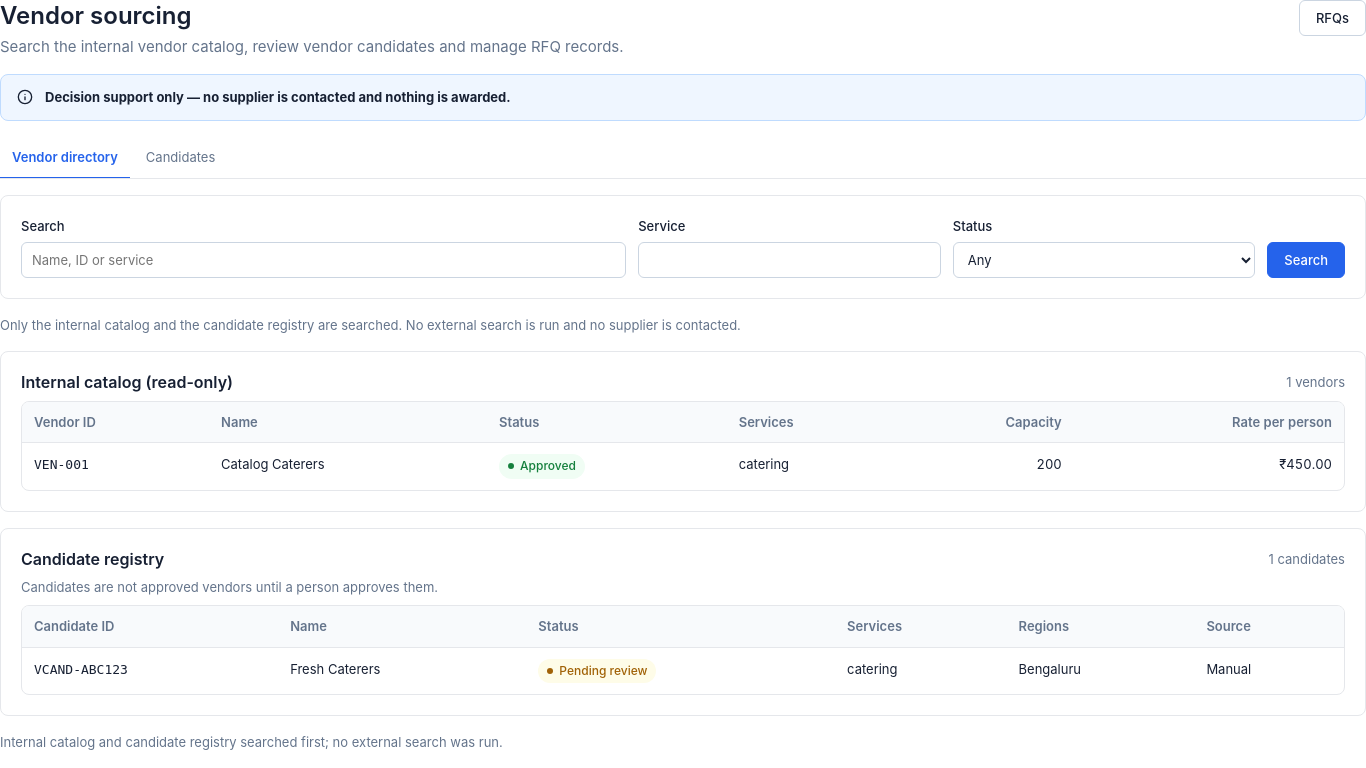
Scenario: VendorSourcingPage — candidates › shows candidate detail and approves with a required reason
This screenshot has width=1366, height=768.
Click the tab "Candidates" at (181, 158), box [134,137,227,179]
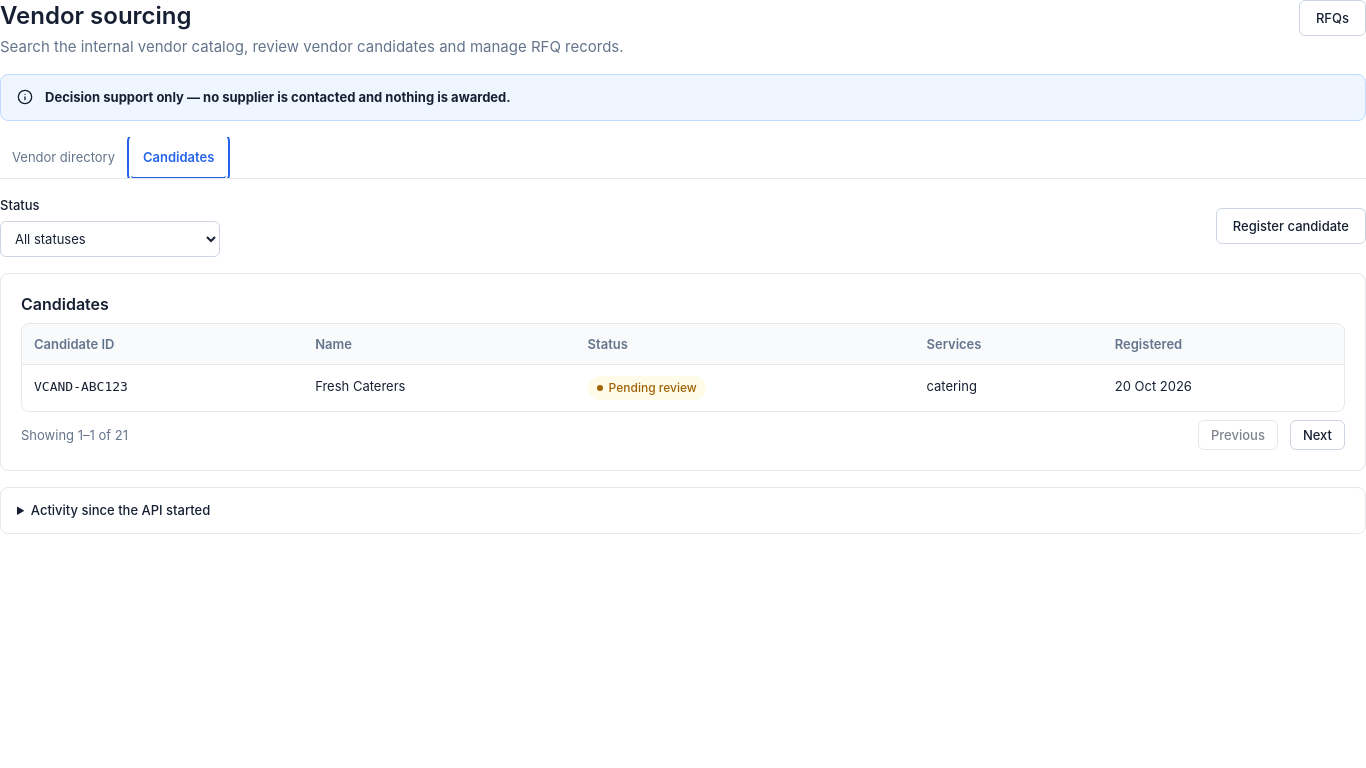
Click the text "Fresh Caterers" at (360, 386), box [303,365,576,411]
(page scrolled)
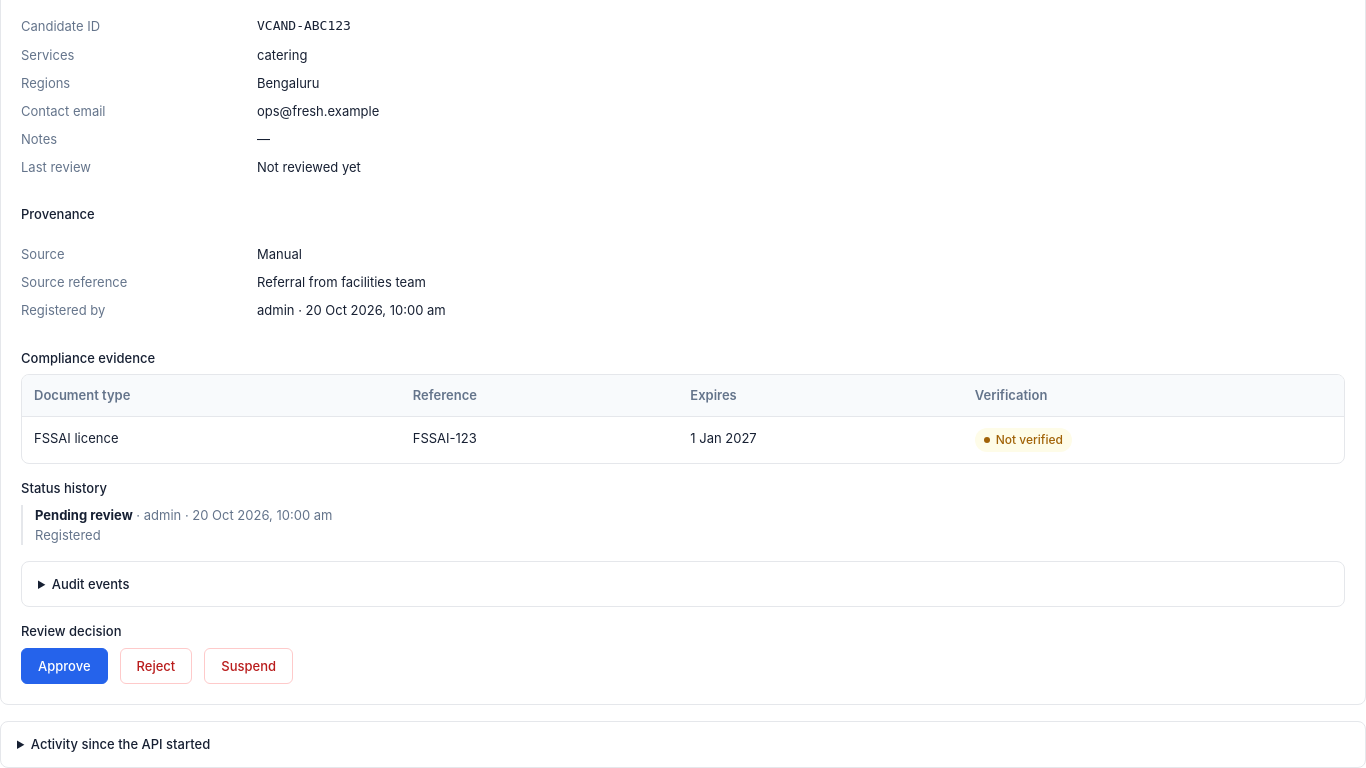
expect the heading "Provenance" is shown: met, box [21,206,95,222]
expect the text "Referral from facilities team" is shown: met, box [257,274,426,290]
expect the text "FSSAI licence" is shown: met, box [22,417,401,463]
Click the button "Approve" at (64, 666), box [21,648,108,684]
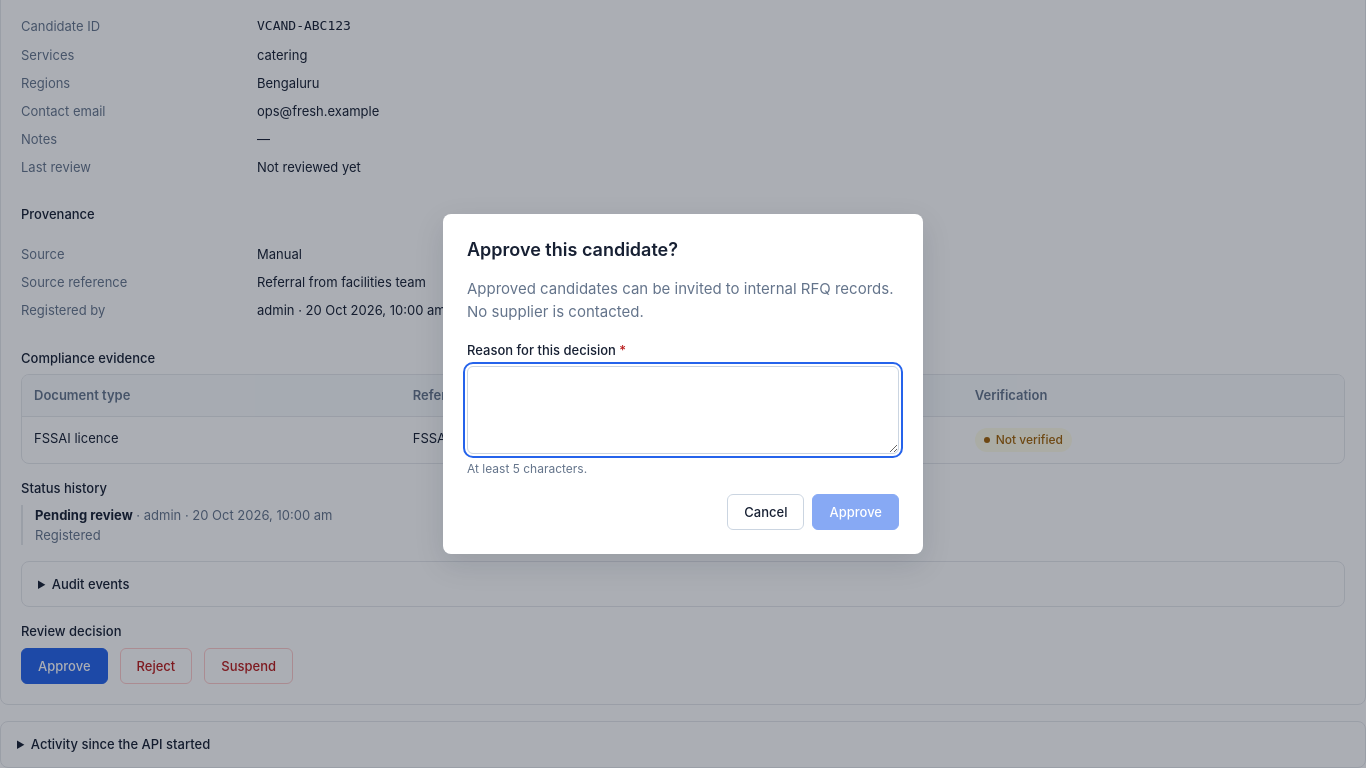
Type "ok" into the text box labelled "Reason for this decision" at (683, 410), box [467,366,899,454]
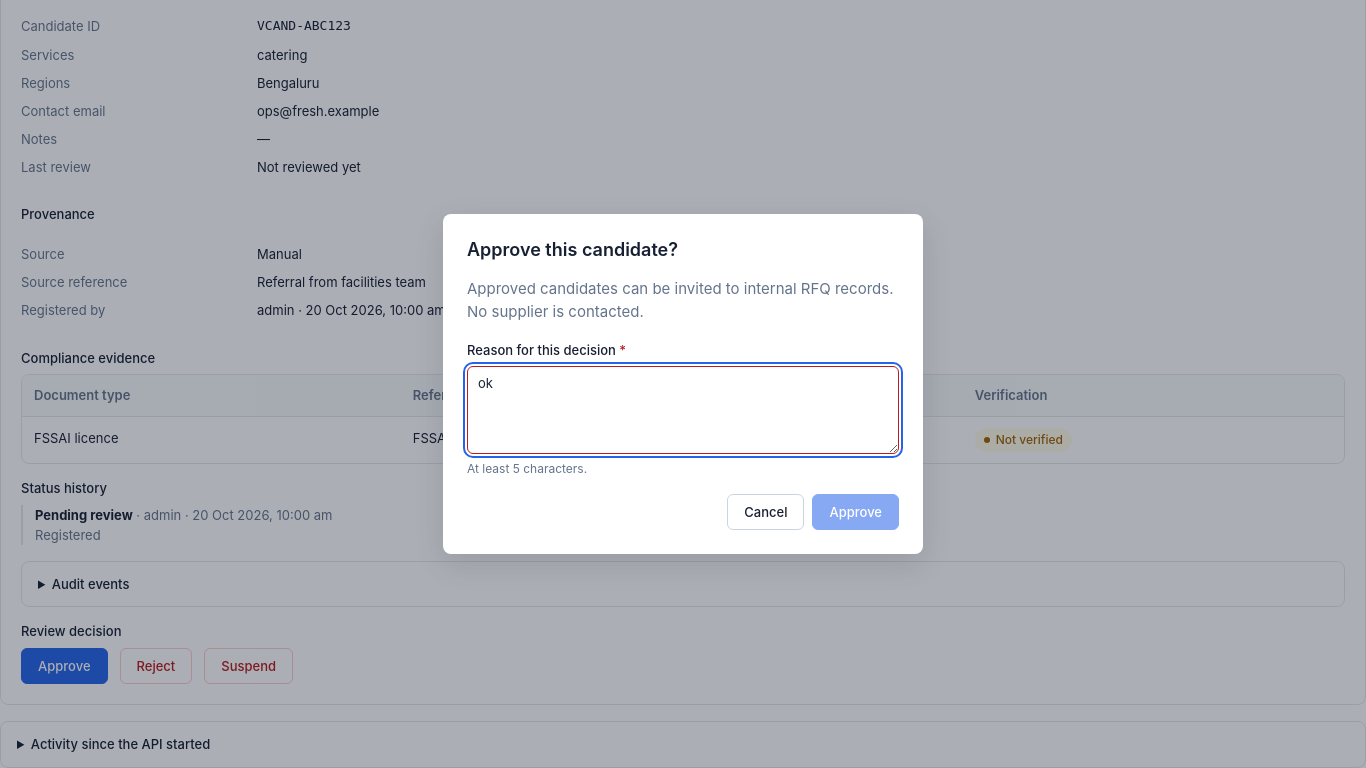
Type " checked" into the text box labelled "Reason for this decision" at (683, 410), box [467,366,899,454]
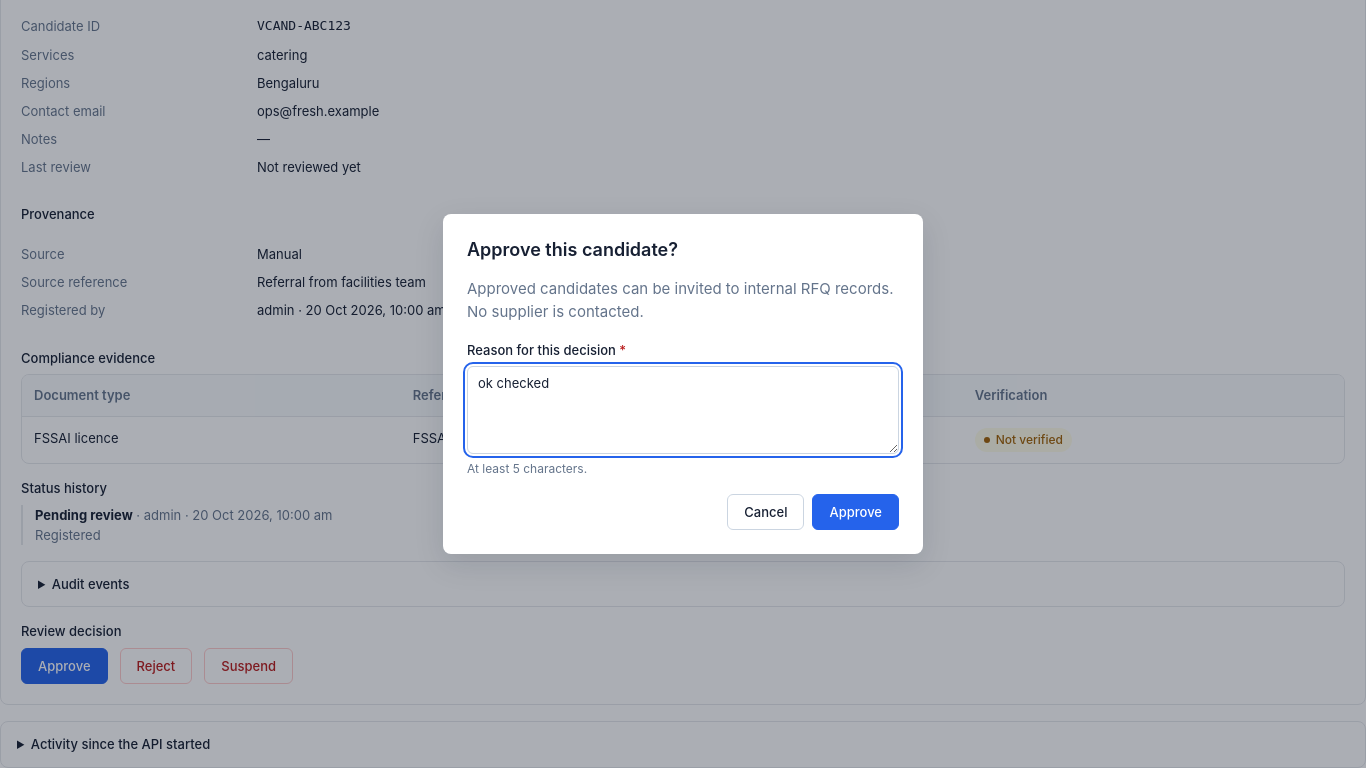
Click the button "Approve" at (856, 512), box [812,494,899,530]
(page scrolled)
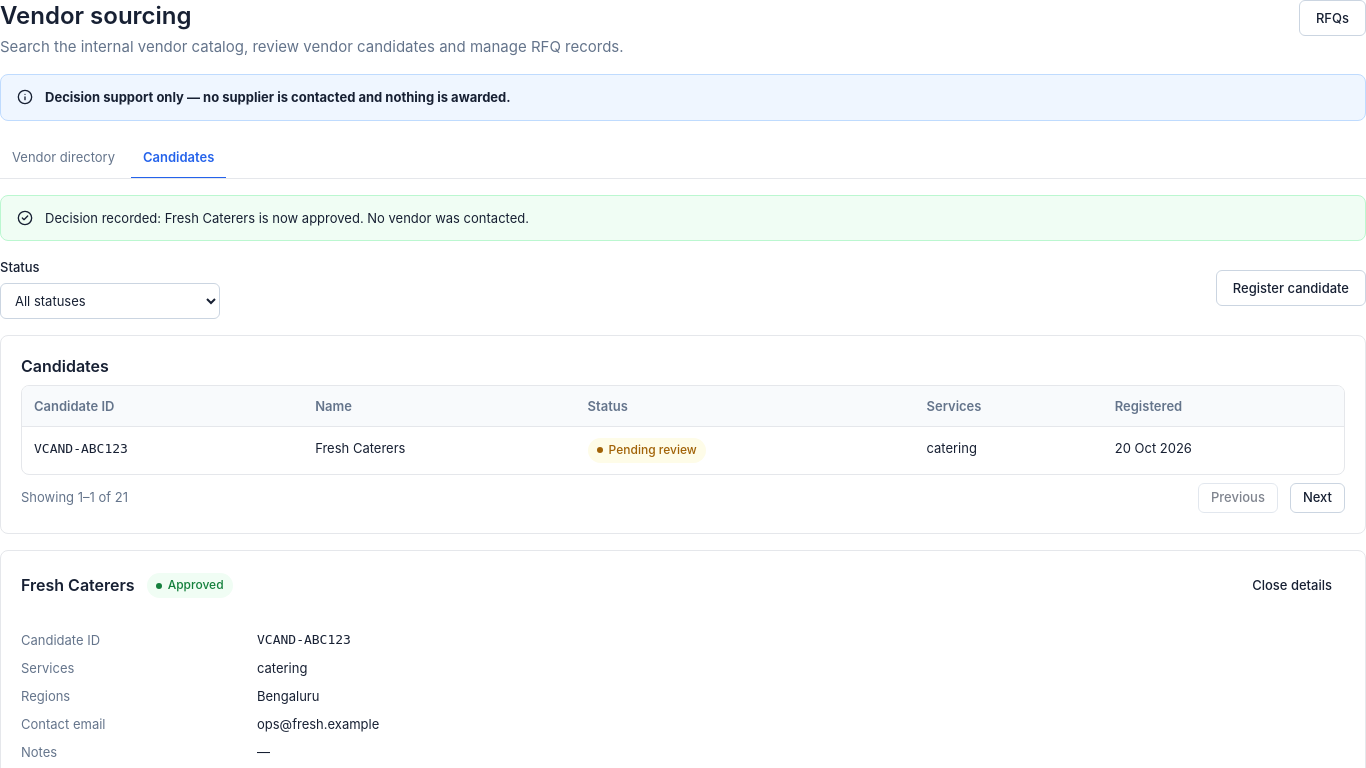
expect the dialog is gone: met
expect the text "is now approved" is shown: met, box [45,210,529,226]
